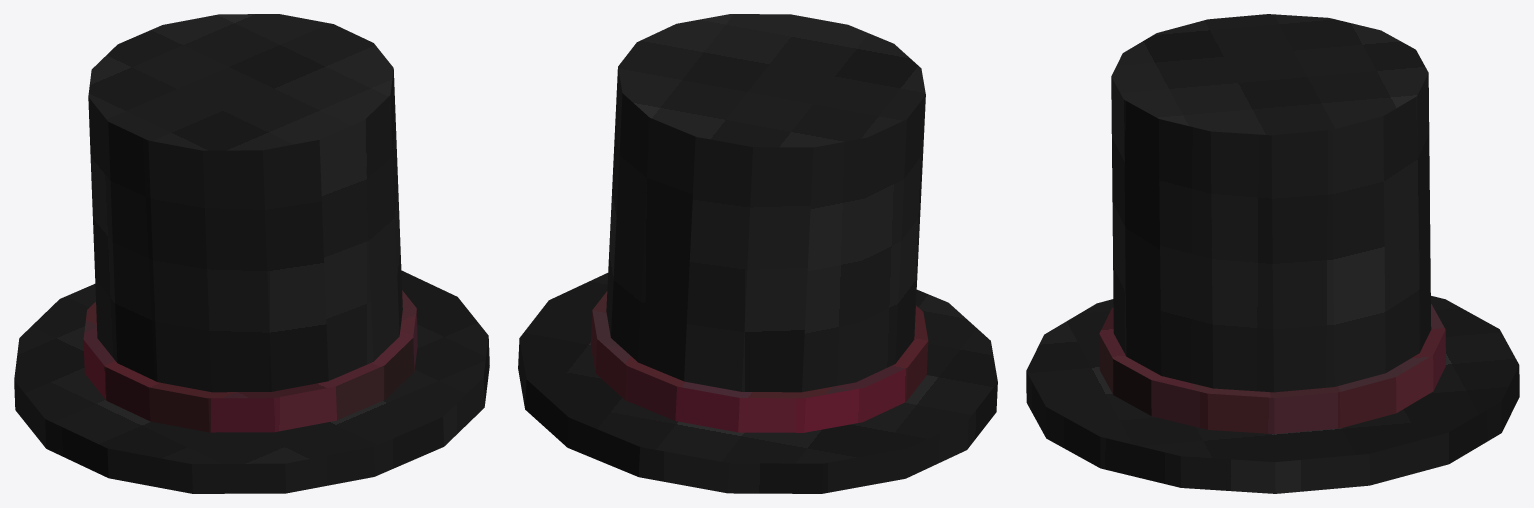
Rendered from Cartola.fbx.
The picture shows the model from 3 angles, left to right: view 1: azimuth 30°, elevation 25°; view 2: azimuth 150°, elevation 25°; view 3: azimuth 270°, elevation 25°; orthographic projection. The views are drawn at different scales.
Parts seen in each view (by area): view 1: Cylinder.002; view 2: Cylinder.002; view 3: Cylinder.002.
Part boxes in pixels (bbox=[...]): Cylinder.002: bbox=[14, 14, 489, 493]; Cylinder.002: bbox=[518, 14, 997, 493]; Cylinder.002: bbox=[1026, 14, 1519, 493].
Size of the model in its own units: 43.7 by 32.66 by 43.63.
1 material, 1 textured.
